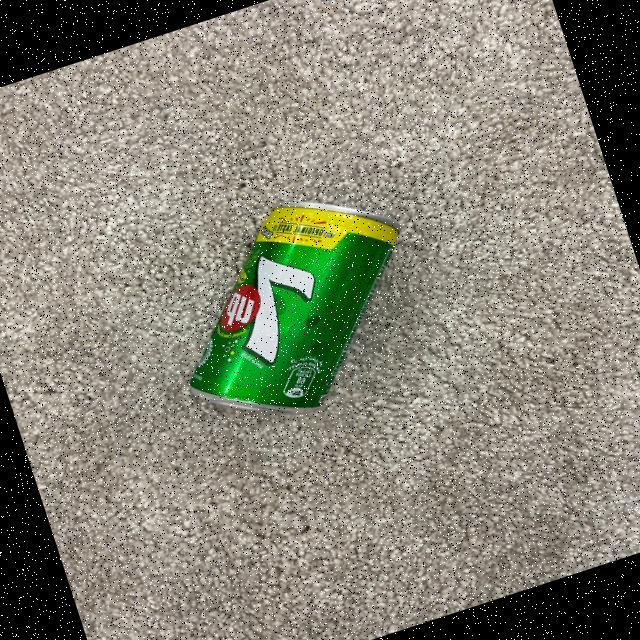debris: (137, 168, 450, 454)
